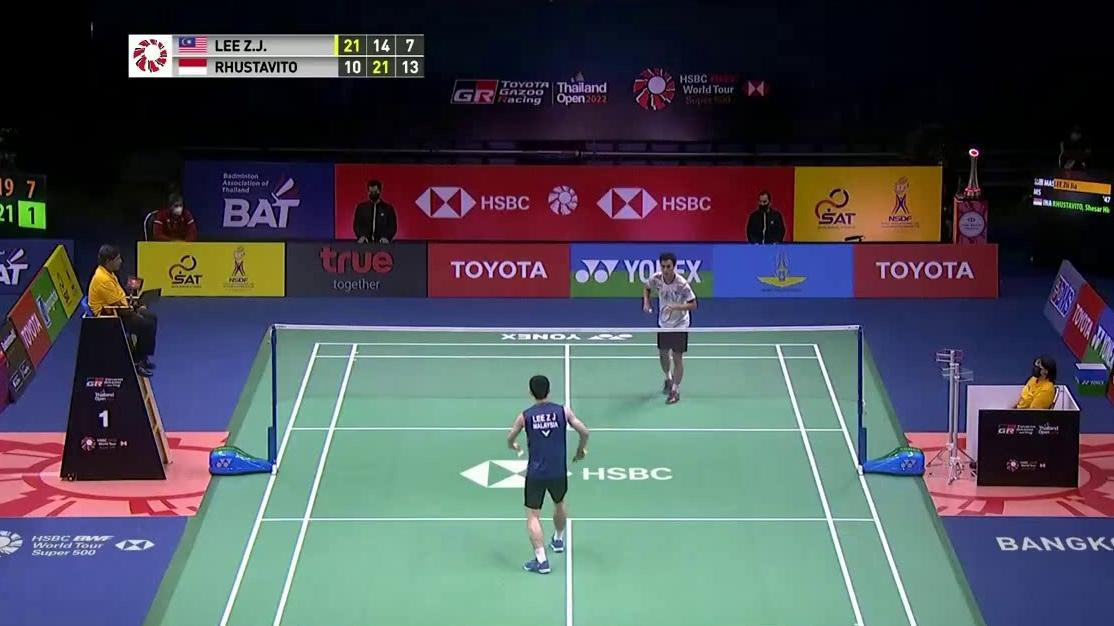racket: (565, 447, 587, 475), (647, 304, 672, 323)
shuttle: (515, 446, 525, 459)
